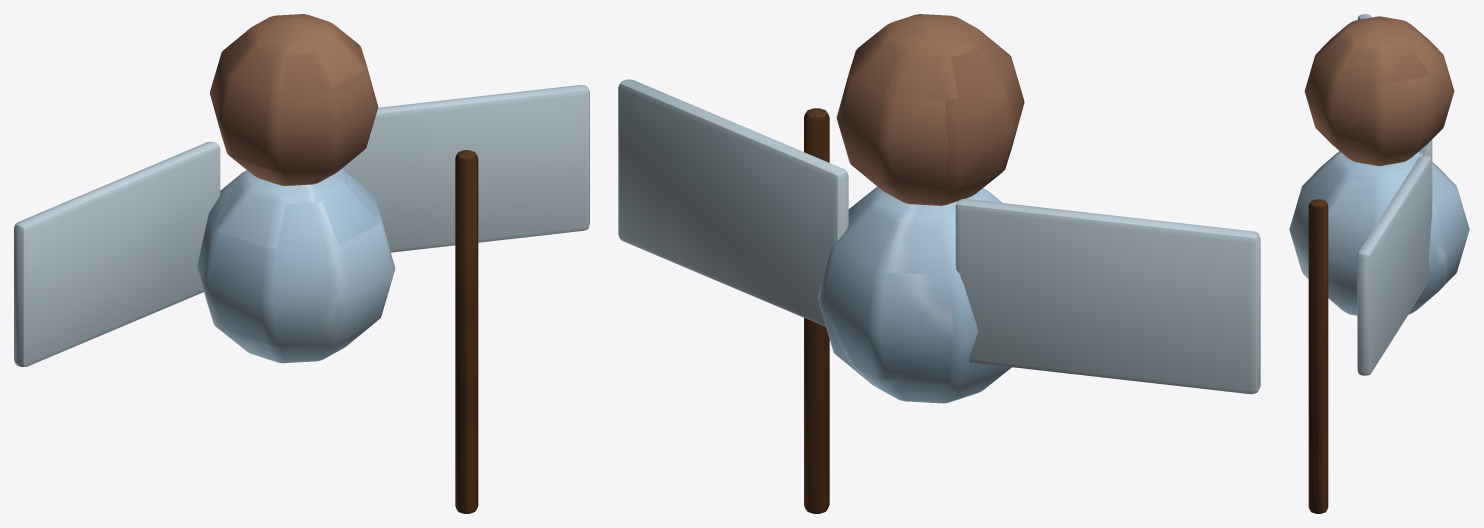
The model's file is unit_outcast_sprite.fbx.
3 views of the same model, side by side, from view 1: azimuth 30°, elevation 25°; view 2: azimuth 150°, elevation 25°; view 3: azimuth 270°, elevation 25° (orthographic). The views are drawn at different scales.
Visible parts, largest first — view 1: unit_outcast_sprite; view 2: unit_outcast_sprite; view 3: unit_outcast_sprite.
Part boxes in pixels (x1=…): unit_outcast_sprite: x1=14, y1=14, x2=589, y2=513; unit_outcast_sprite: x1=618, y1=14, x2=1260, y2=513; unit_outcast_sprite: x1=1289, y1=14, x2=1469, y2=513.
Bounding box in the file's own units: 0.7504 × 0.625 × 0.2366.
